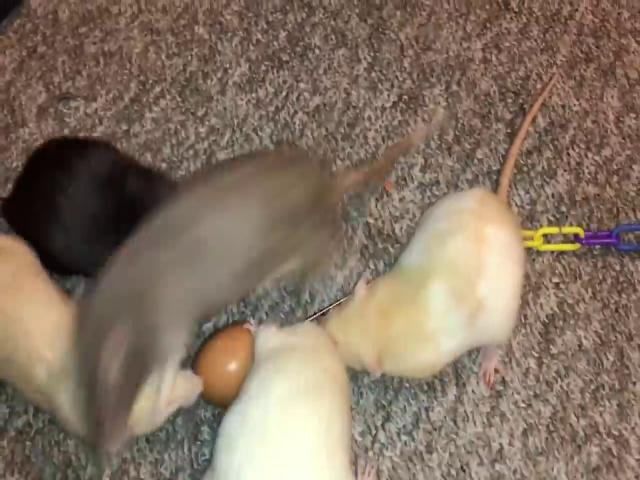Tikus: (74, 139, 346, 456), (322, 188, 525, 378)
